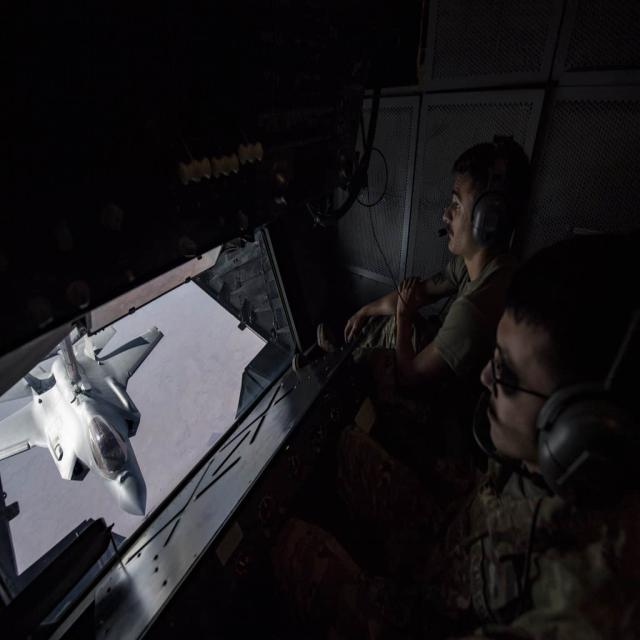MIL_Plane: (1, 326, 164, 516)
